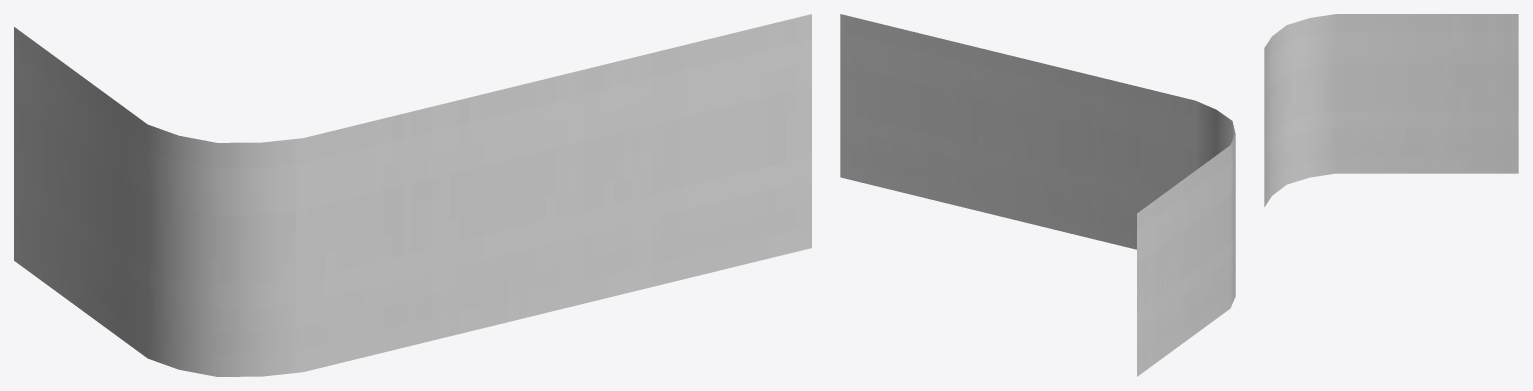
Rendered from pref_sm_city_holoall02_snow_lv1.fbx.
3 renders of one model, left to right at view 1: azimuth 30°, elevation 25°; view 2: azimuth 150°, elevation 25°; view 3: azimuth 270°, elevation 25°, orthographic. The views are drawn at different scales.
Visible parts, largest first — view 1: pref_sm_city_holoall02_snow_lv1; view 2: pref_sm_city_holoall02_snow_lv1; view 3: pref_sm_city_holoall02_snow_lv1.
Boxes of the visible parts, bbox=[...] form: pref_sm_city_holoall02_snow_lv1: bbox=[14, 14, 811, 376]; pref_sm_city_holoall02_snow_lv1: bbox=[840, 14, 1235, 376]; pref_sm_city_holoall02_snow_lv1: bbox=[1264, 14, 1518, 206].
Bounding box in the file's own units: 13.32 × 4.87 × 7.04.
